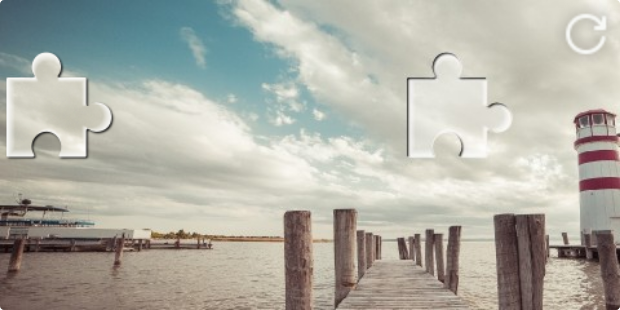target: (406, 52, 514, 158)
